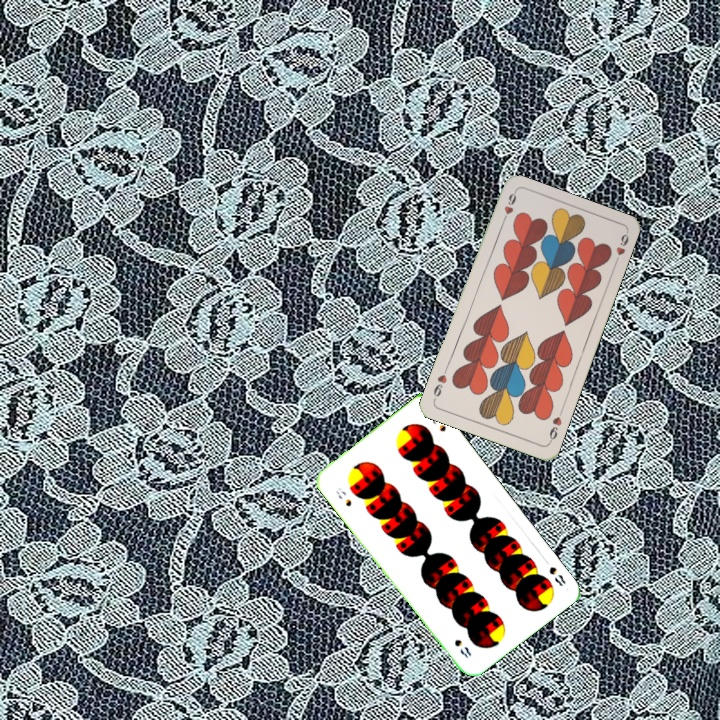H9: (497, 188, 519, 227), (545, 406, 565, 445)
S8: (540, 554, 568, 589), (332, 484, 354, 509)
